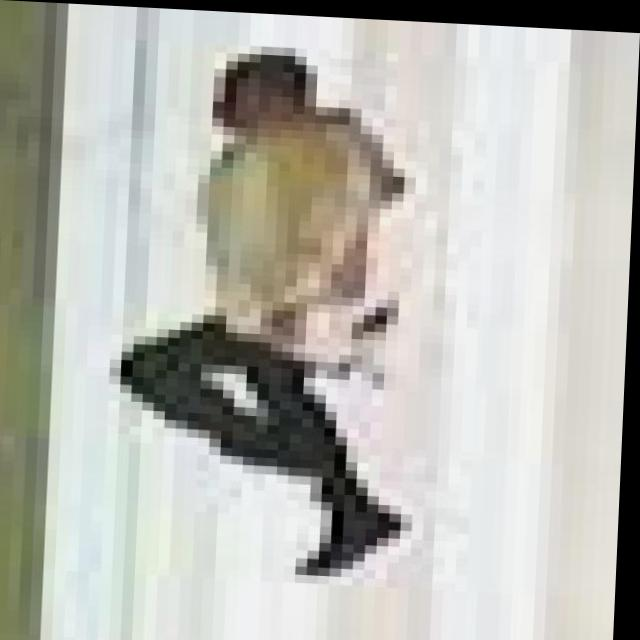fall: (114, 42, 414, 584)
